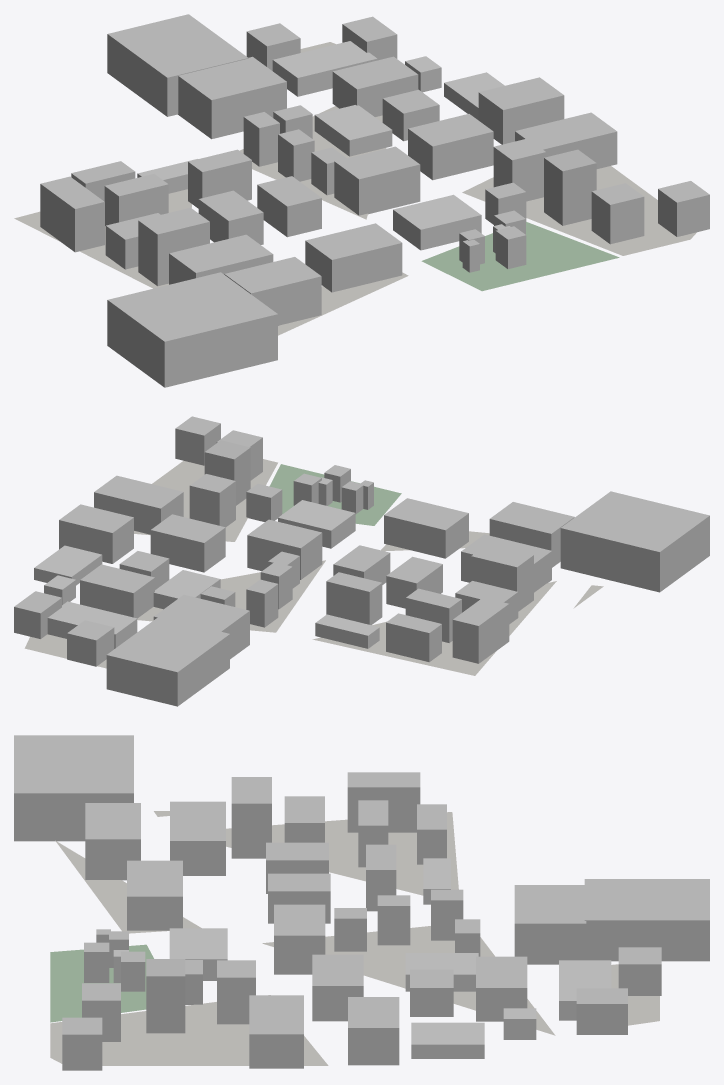
Rendered from 135_100_mid.glb.
The picture shows the model from 3 angles, top to bottom: view 1: azimuth 30°, elevation 25°; view 2: azimuth 150°, elevation 25°; view 3: azimuth 270°, elevation 25°; orthographic projection. The views are drawn at different scales.
Bounding box in the file's own units: 563 × 54.5 × 571.
